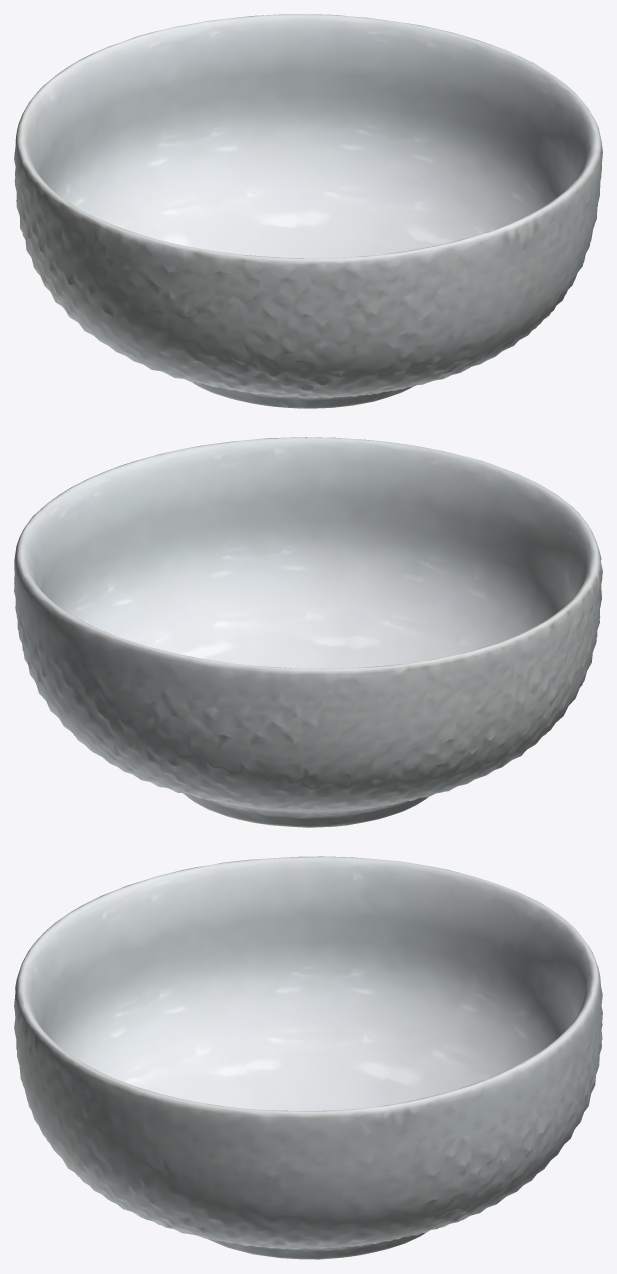
The model's file is Threshold_Bead_Cereal_Bowl_White.glb.
3 views of the same model, one above another, from view 1: azimuth 30°, elevation 25°; view 2: azimuth 150°, elevation 25°; view 3: azimuth 270°, elevation 25° (orthographic).
Visible parts, largest first — view 1: Threshold_Bead_Cereal_Bowl_White; view 2: Threshold_Bead_Cereal_Bowl_White; view 3: Threshold_Bead_Cereal_Bowl_White.
Part boxes in pixels (bbox=[...]): Threshold_Bead_Cereal_Bowl_White: bbox=[14, 14, 602, 408]; Threshold_Bead_Cereal_Bowl_White: bbox=[14, 437, 602, 827]; Threshold_Bead_Cereal_Bowl_White: bbox=[14, 856, 602, 1259].
Size of the model in its own units: 0.1698 by 0.0707 by 0.1663.
Materials: 1 (1 with a texture image).
